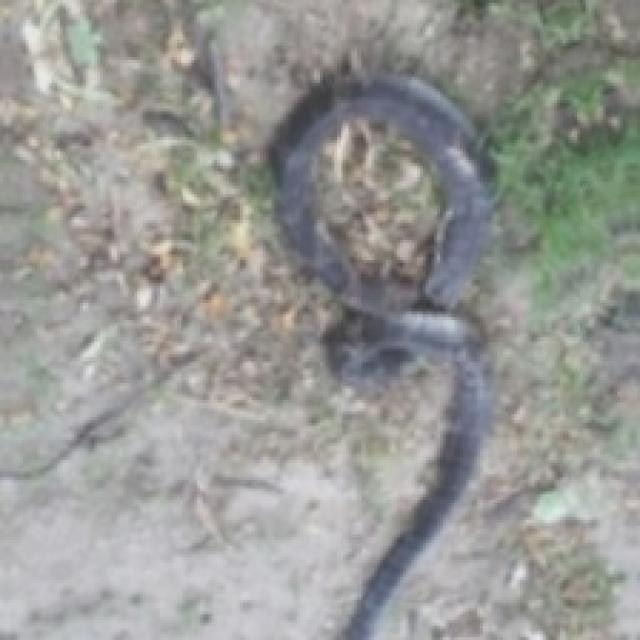king cobra: (269, 74, 489, 637)
